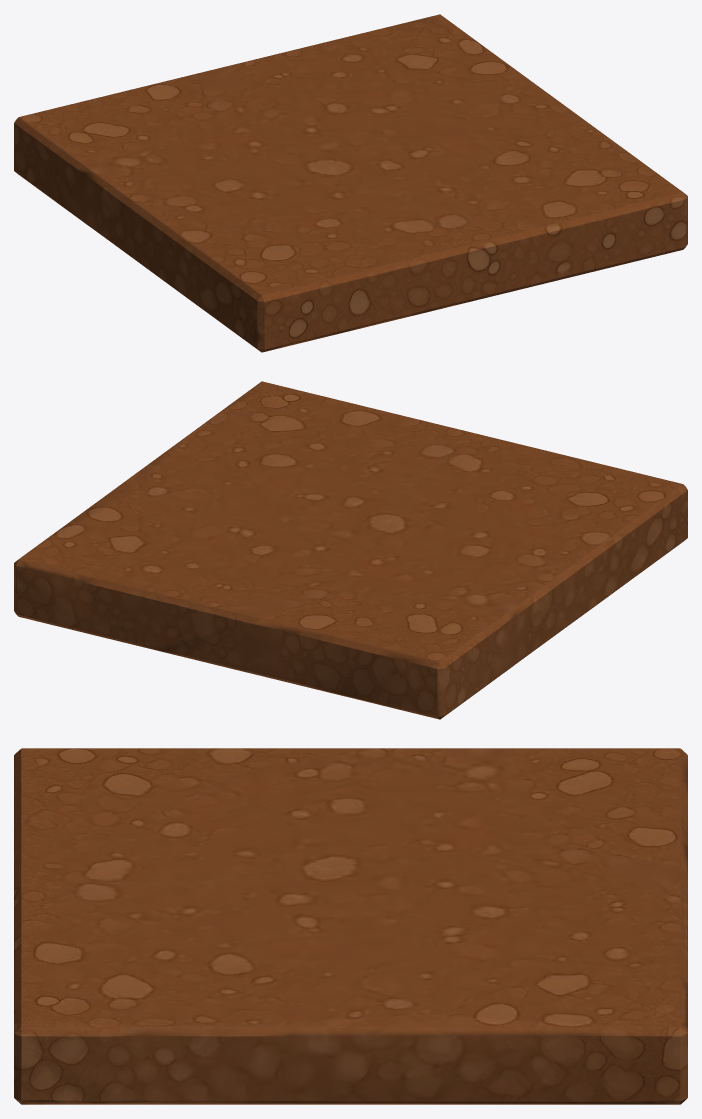
Rendered from soil-tile.glb.
3 renders of one model, top to bottom at view 1: azimuth 30°, elevation 25°; view 2: azimuth 150°, elevation 25°; view 3: azimuth 270°, elevation 25°, orthographic. The views are drawn at different scales.
Size of the model in its own units: 1.9 by 0.2427 by 1.9.
Materials: 1 (1 with a texture image).
